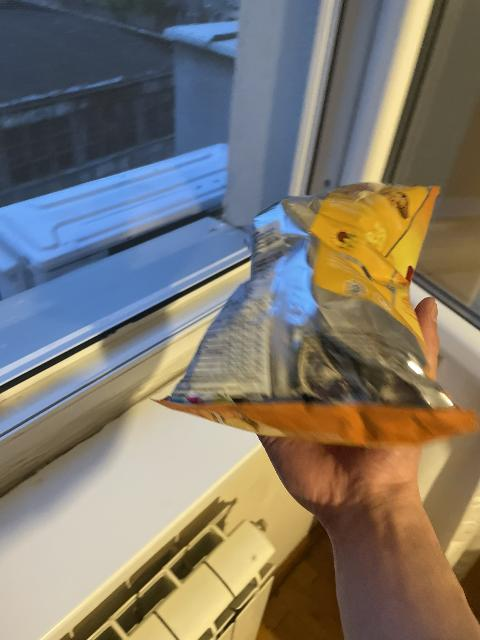Chio Cascaval 125g: (156, 186, 473, 440)
